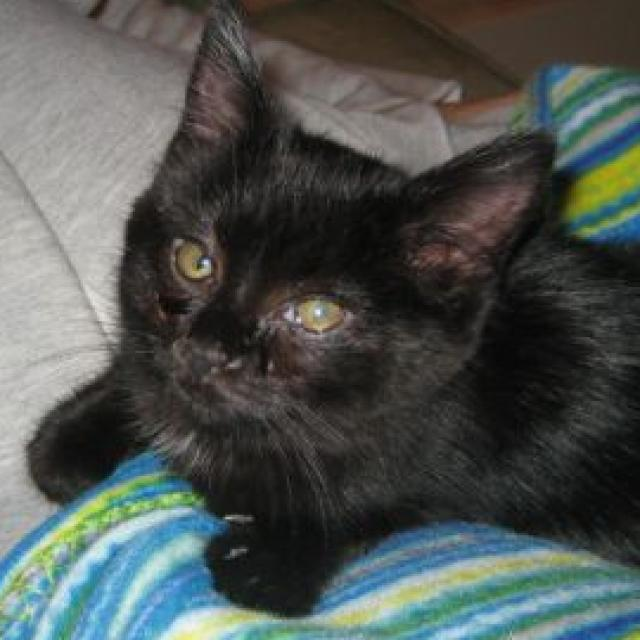Bombay: (21, 0, 640, 620)
